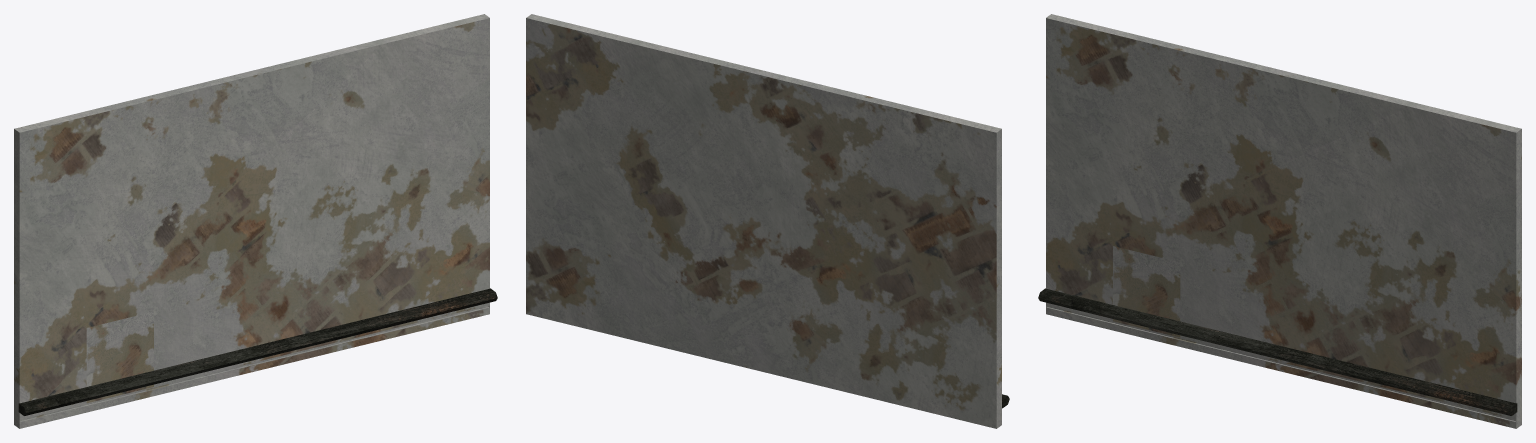
Rendered from 8_C_Wall.fbx.
The picture shows the model from 3 angles, left to right: view 1: azimuth 30°, elevation 25°; view 2: azimuth 150°, elevation 25°; view 3: azimuth 330°, elevation 25°; orthographic projection.
Visible parts, largest first — view 1: C_Wall.008; view 2: C_Wall.008; view 3: C_Wall.008.
Boxes of the visible parts, x1,y1,x2,y2 form: C_Wall.008: [14, 14, 497, 428]; C_Wall.008: [526, 14, 1009, 428]; C_Wall.008: [1038, 14, 1521, 428].
Size of the model in its own units: 500 by 300 by 23.05.
